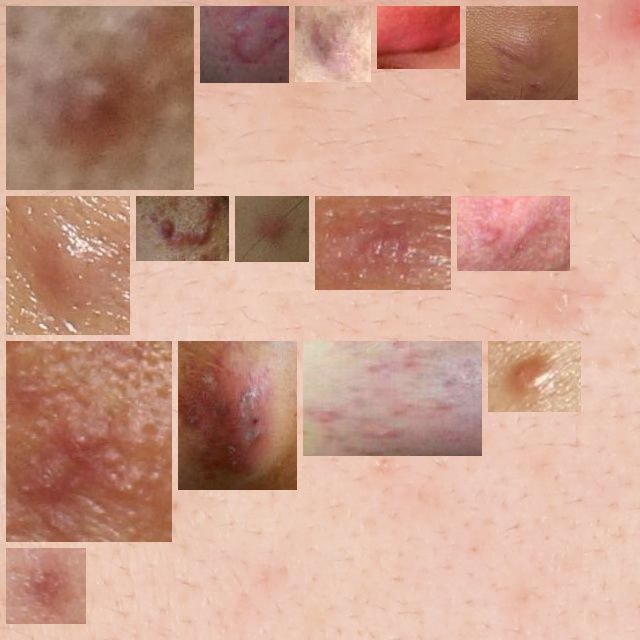nodule: (6, 349, 164, 534), (14, 14, 186, 182), (311, 349, 474, 448), (186, 349, 289, 482), (14, 204, 122, 327), (323, 204, 443, 282), (474, 14, 570, 92), (465, 204, 562, 263), (208, 14, 281, 75), (496, 349, 573, 404), (14, 556, 78, 616), (144, 204, 221, 253), (303, 14, 363, 74), (385, 14, 452, 61), (243, 204, 301, 254)
